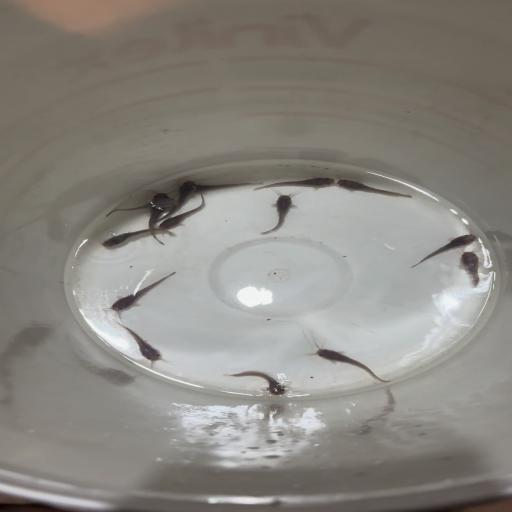lele: (297, 335, 391, 384), (106, 271, 178, 315), (409, 230, 481, 270), (114, 319, 174, 366), (217, 368, 289, 398), (336, 176, 414, 200), (158, 195, 210, 231), (259, 190, 298, 236), (101, 197, 179, 218), (98, 228, 176, 249), (145, 188, 173, 246), (250, 175, 336, 192), (162, 180, 198, 219), (190, 180, 264, 197), (456, 250, 486, 288)
